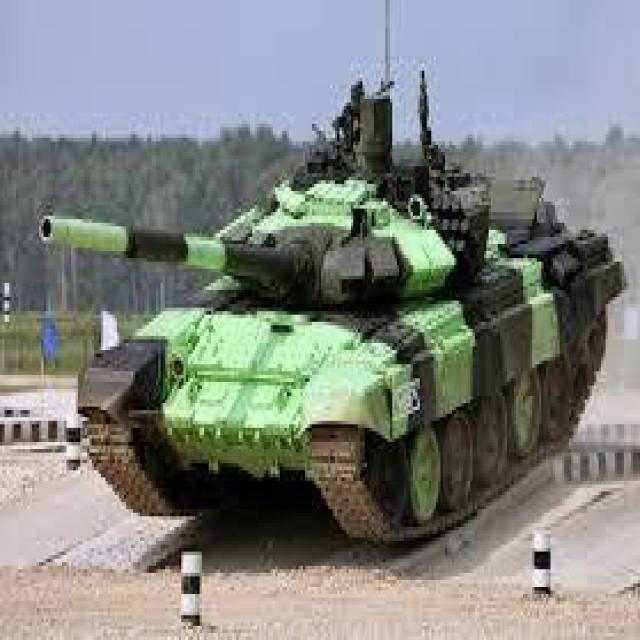Tanks: (29, 62, 614, 571)
